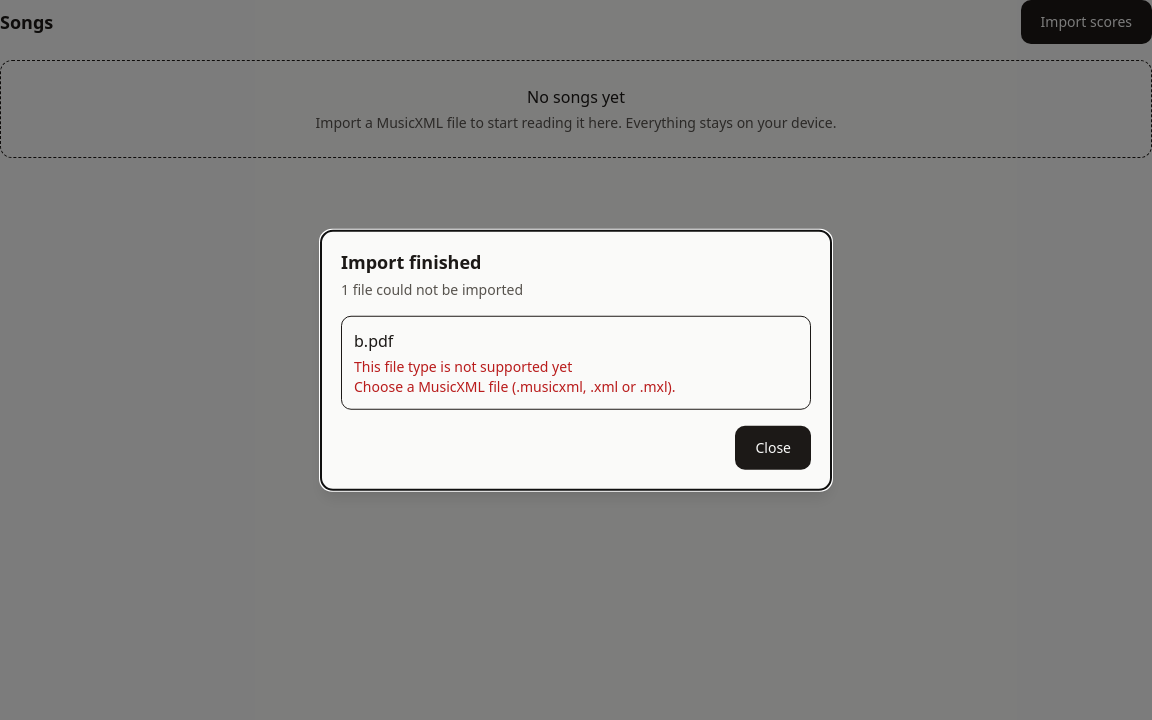
Test: closing the summary returns to the list
The width and height of the screenshot is (1152, 720).
Earlier steps of the test are not shown.
Click the button "Close" at (773, 447), box [736,425,811,469]
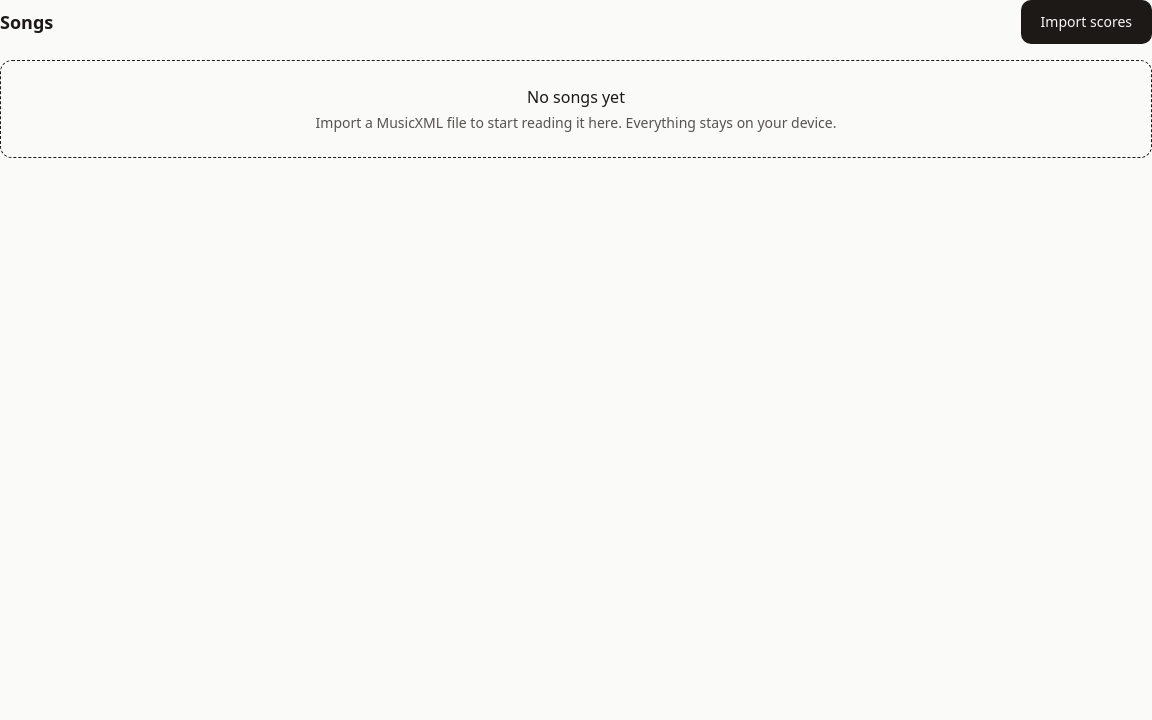
Check: the dialog is gone
